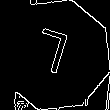L_S: (33, 26, 77, 84)
